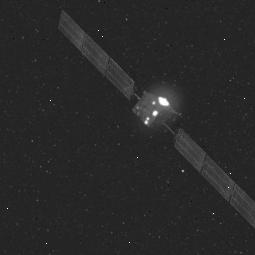smart_1: (97, 50, 211, 166)
